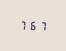seven: (18, 19, 26, 30), (37, 20, 45, 31)
six: (28, 19, 36, 31)
